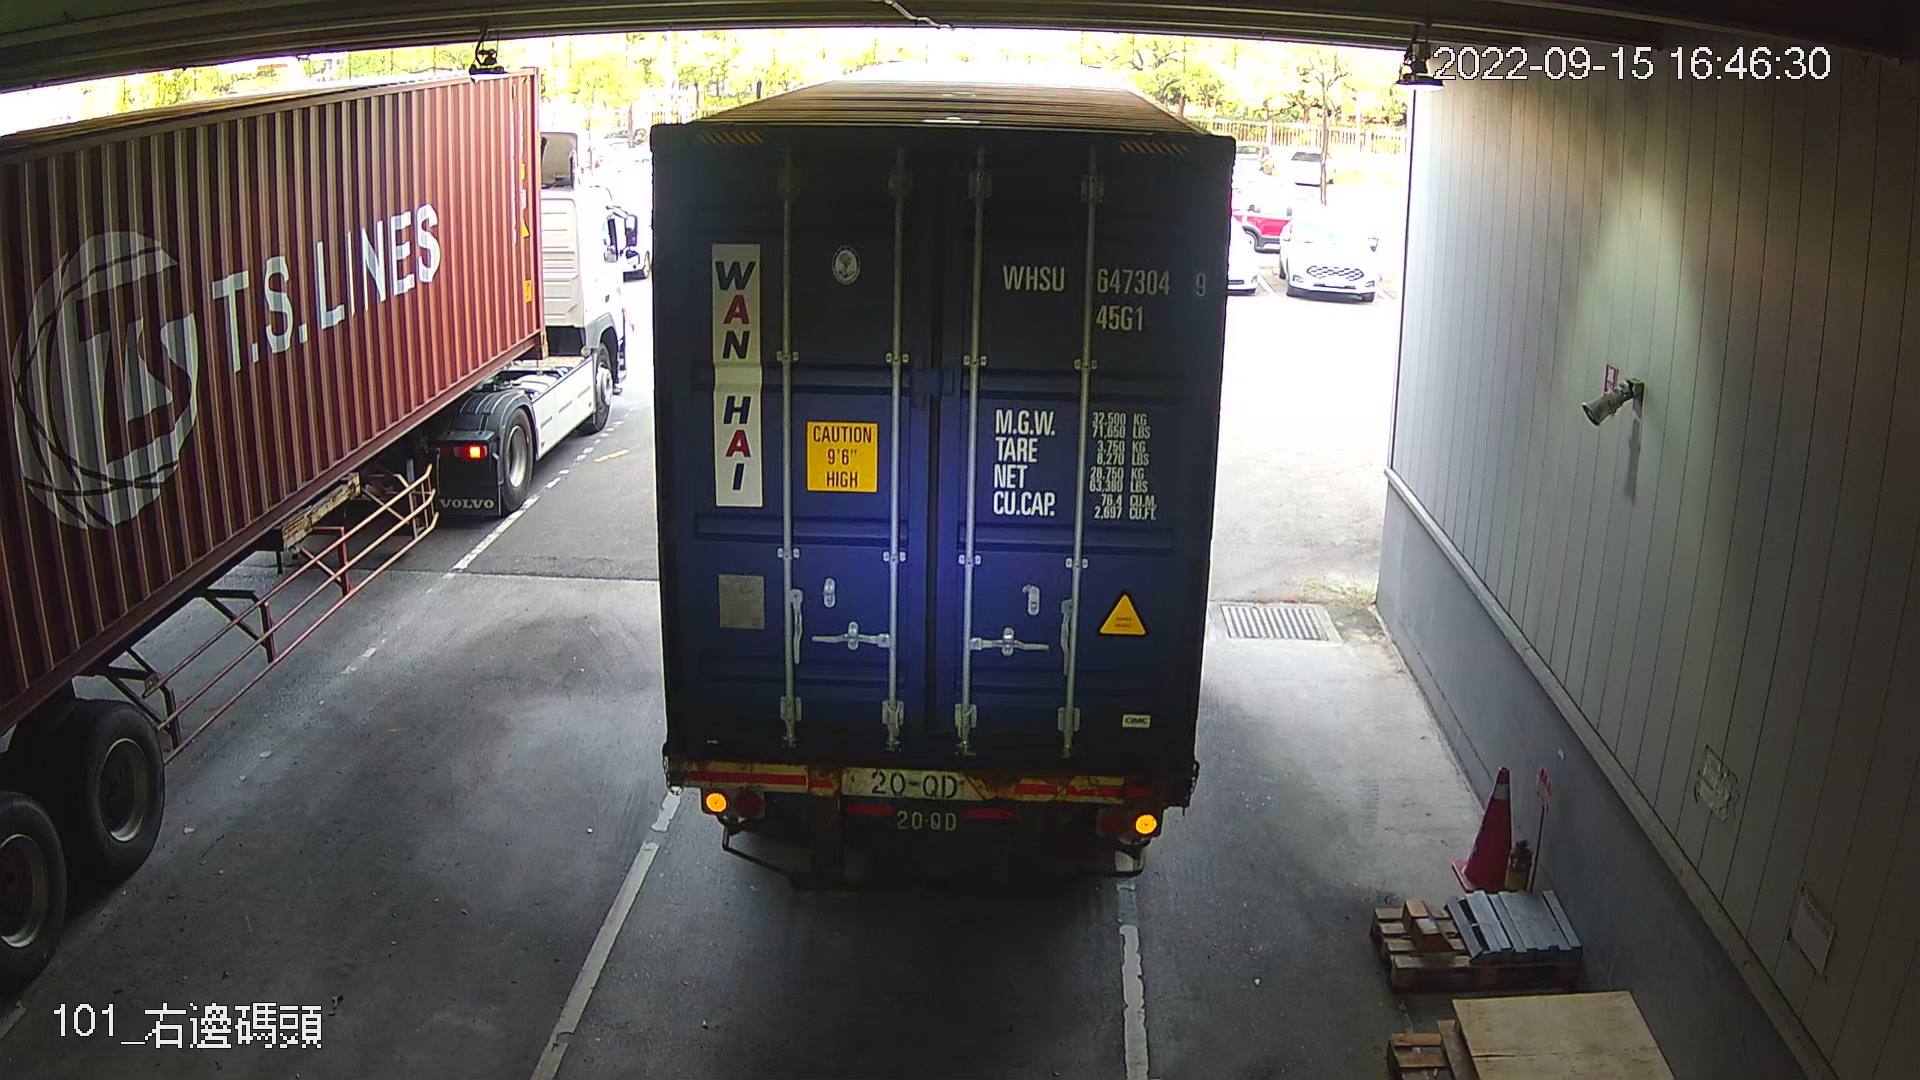container: (997, 252, 1216, 342)
